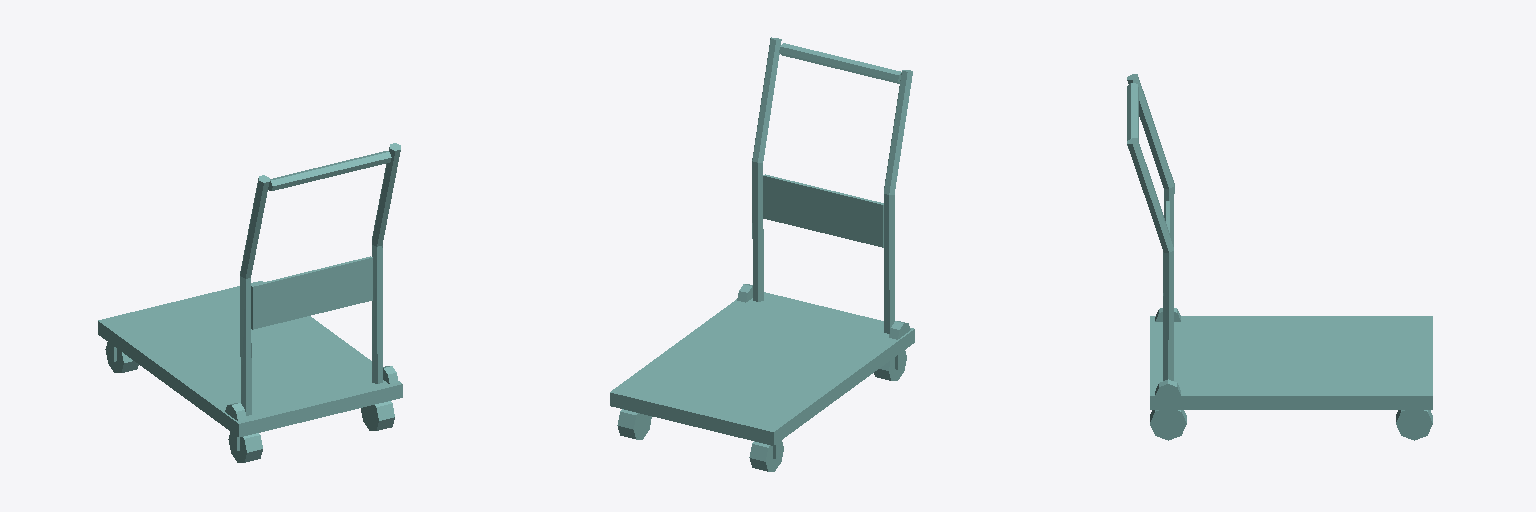
The picture shows the model from 3 angles: view 1: azimuth 30°, elevation 25°; view 2: azimuth 150°, elevation 25°; view 3: azimuth 270°, elevation 25°; orthographic projection.
Parts seen in each view (by area): view 1: trolley:name15; view 2: trolley:name15; view 3: trolley:name15.
Part boxes in pixels (left/top/right/bottom): trolley:name15: left=98, top=143, right=402, bottom=462; trolley:name15: left=610, top=37, right=914, bottom=471; trolley:name15: left=1127, top=74, right=1432, bottom=440.
Bounding box in the file's own units: 2.4 × 4.16 × 3.88.
1 materials, 1 textured.